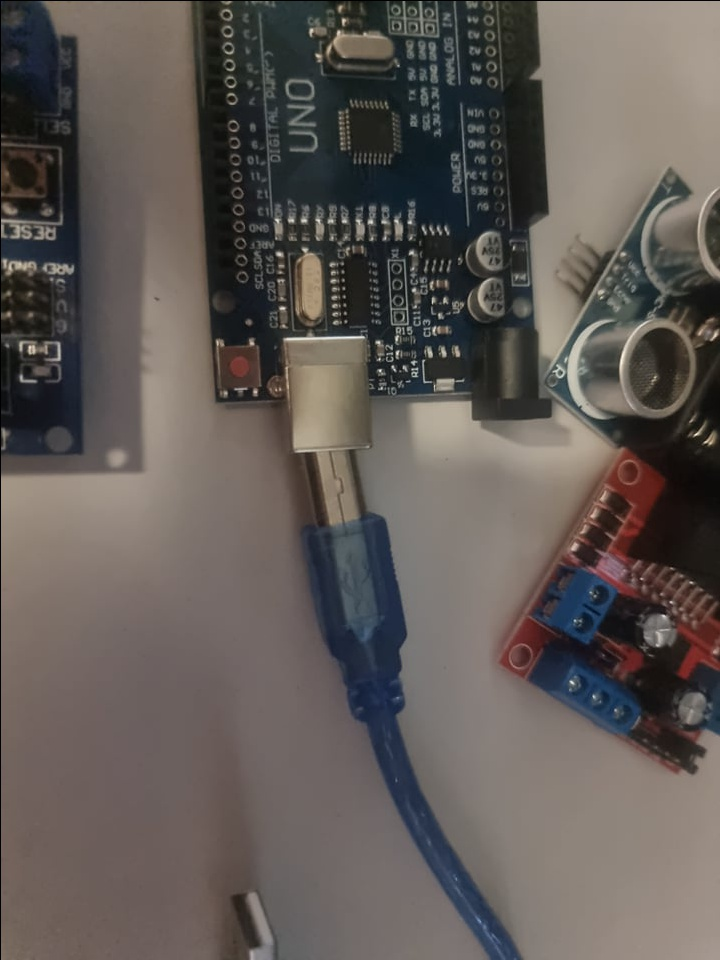5V EXPANSION: (0, 0, 82, 464)
MOTOR: (498, 447, 719, 787)
SENSOR: (548, 165, 719, 444)
UNO R3: (176, 0, 551, 452)
